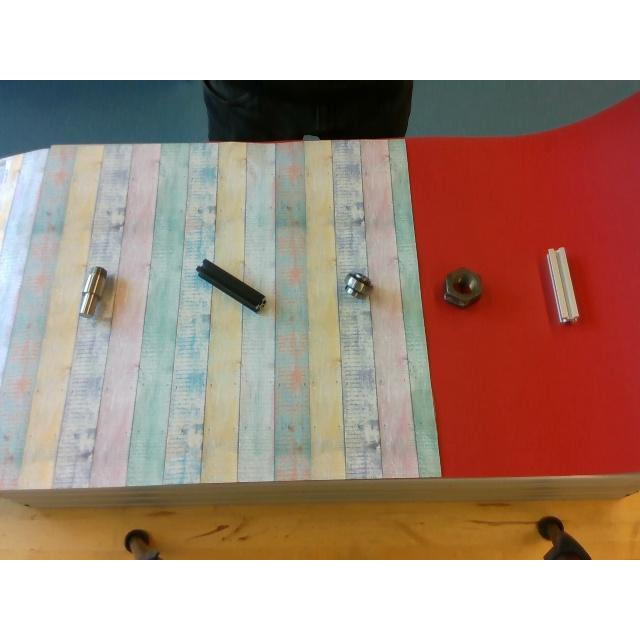Axis2: (78, 266, 106, 314)
Bearing2: (344, 272, 374, 300)
F20_20_B: (196, 258, 266, 310)
F20_20_G: (546, 246, 578, 322)
M30: (444, 267, 482, 307)
